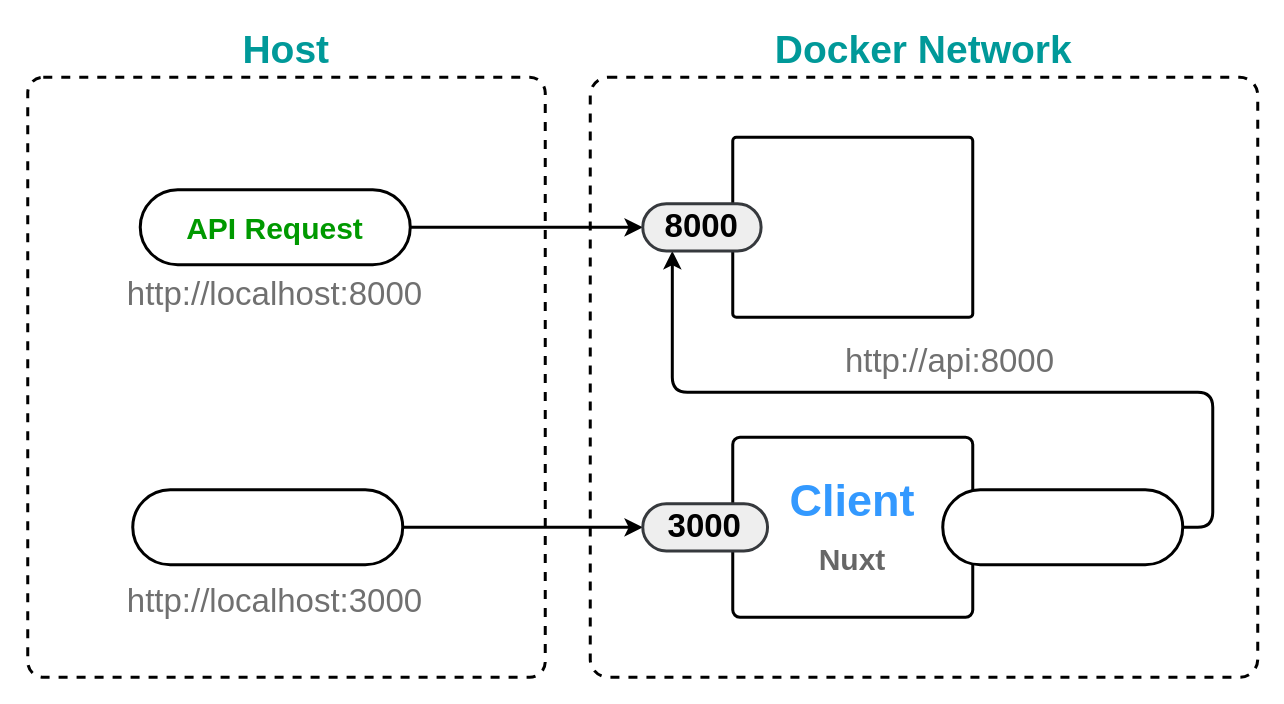
Image size: 1284x704. Some labels were removed from this diagram. The box of each missing label's shape, as (x1, y1, x2, y2) in pixels:
API Laravel: (730, 135, 974, 318)
SSR Request: (940, 488, 1184, 566)
WEB Request: (130, 488, 404, 566)
